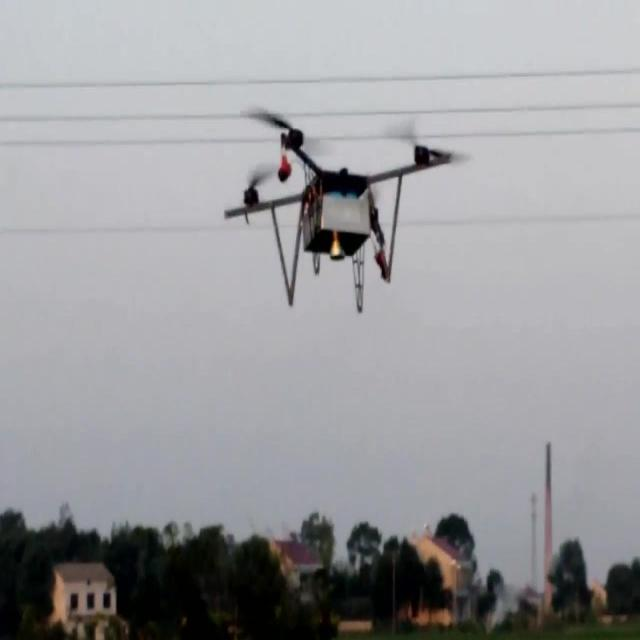drone: (223, 102, 449, 312)
